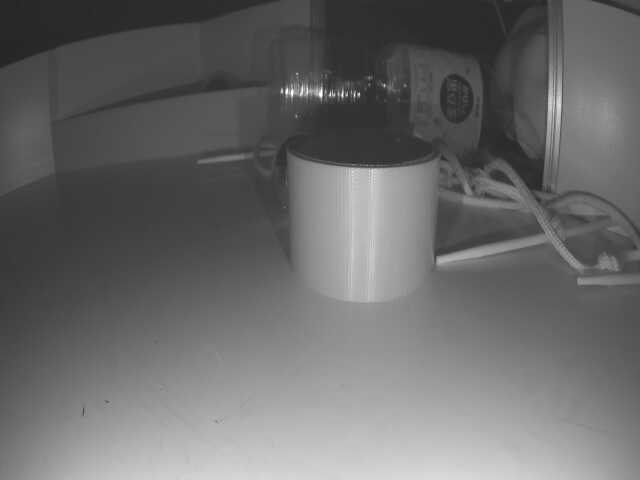Point: (57, 74, 272, 177)
